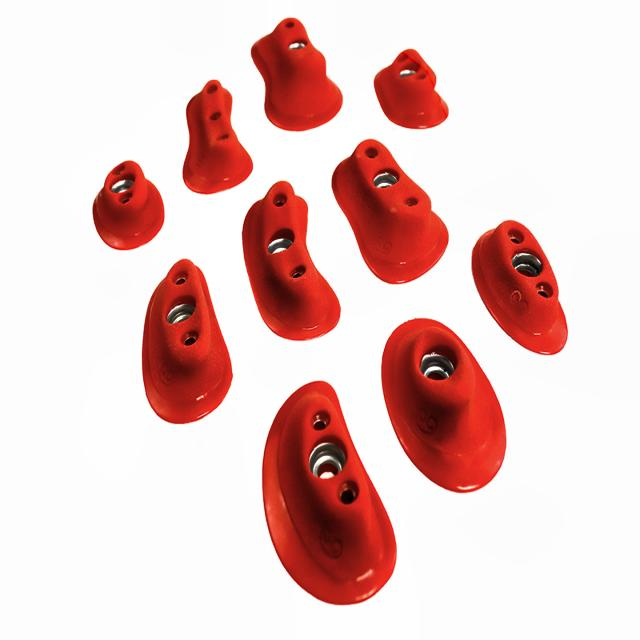Hold: (263, 383, 400, 606), (379, 318, 510, 496), (331, 136, 449, 283), (140, 260, 235, 423), (245, 186, 343, 342), (472, 212, 575, 356), (252, 20, 344, 133), (182, 79, 254, 194), (371, 49, 453, 130), (94, 162, 166, 248)
